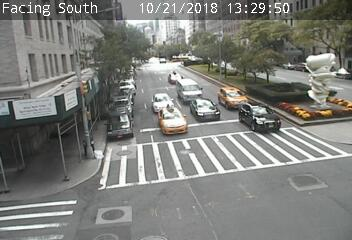car: (239, 103, 281, 133), (158, 105, 186, 136), (190, 98, 219, 122), (218, 87, 247, 110), (177, 79, 202, 105), (152, 93, 173, 113), (168, 72, 183, 84)
